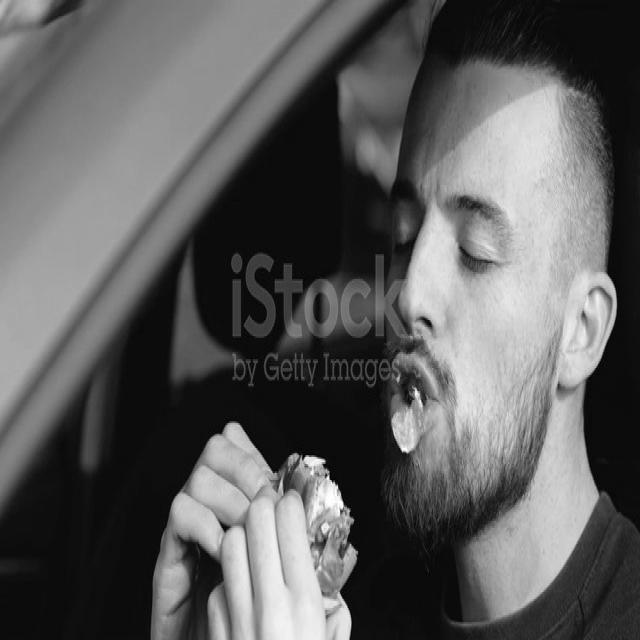Eating: (204, 18, 593, 640)
